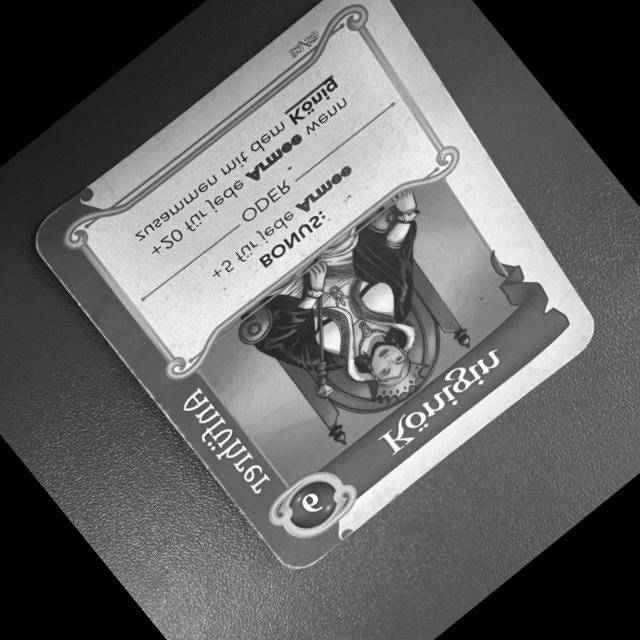Queen: (26, 0, 607, 575)
